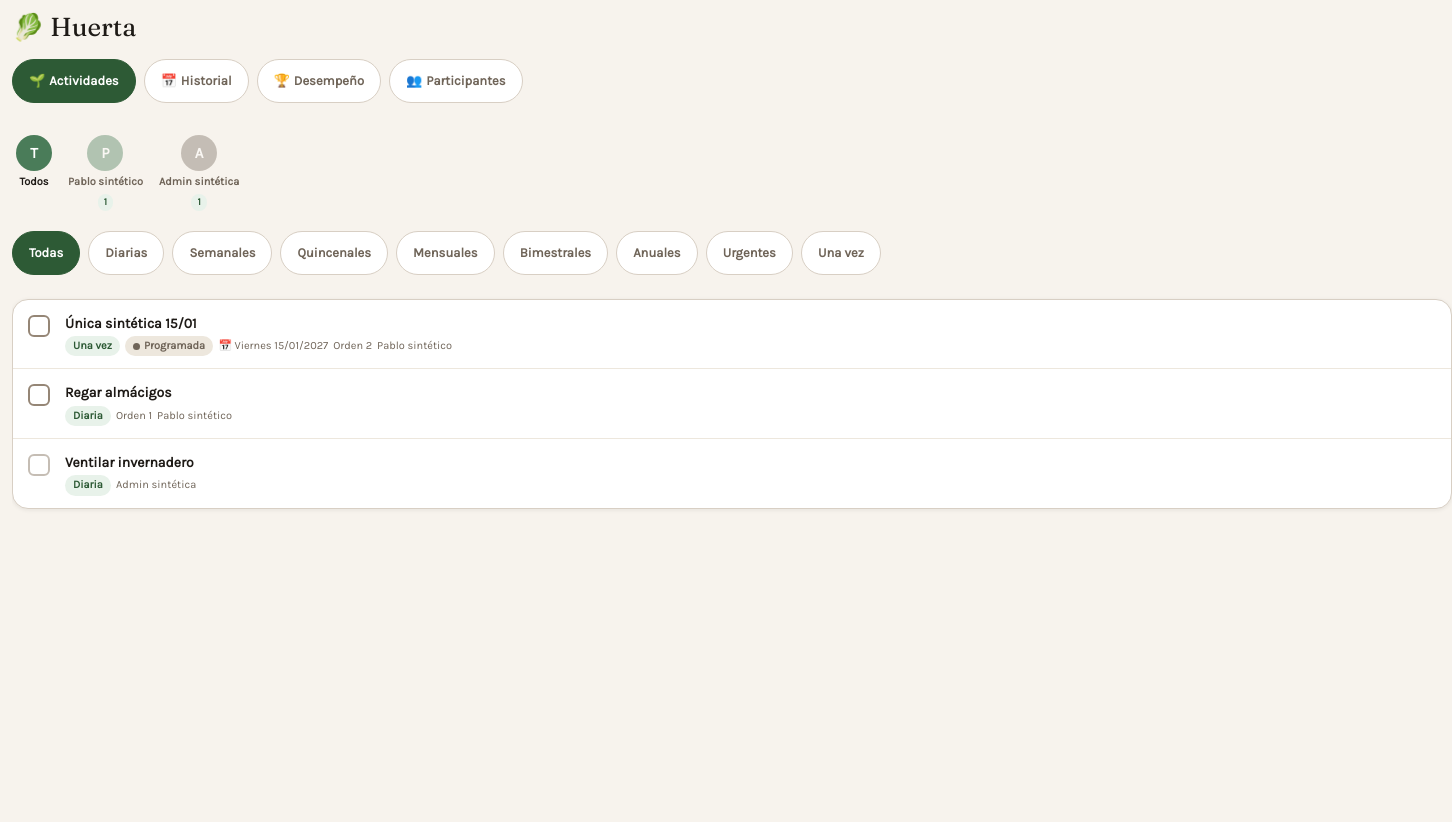
it: 🥬 Huerta — actividades › un participante completa lo suyo sin diálogo; lo ajeno no se puede marcar
The image size is (1452, 822).
Expected: the list named "Actividades del período" is shown, [13, 300, 1451, 508]
Expected: the button named "Marcar como completada: Ventilar invernadero" is disabled, [17, 443, 61, 487]
Click the button named "Marcar como completada: Regar almácigos": (39,395) [17, 373, 61, 417]
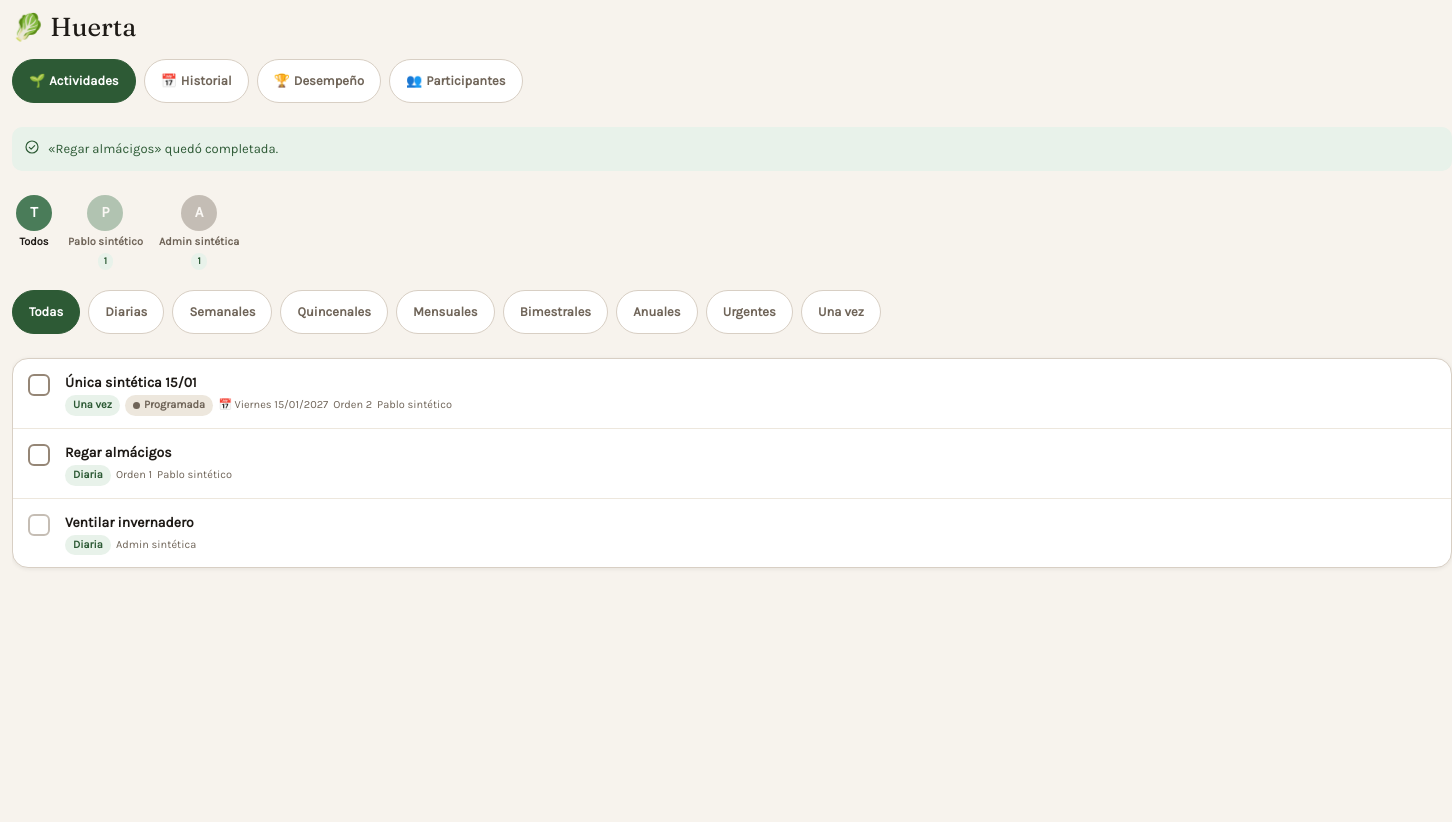
Result: the text "«Regar almácigos» quedó completada." is shown at [12, 127, 1451, 171]
